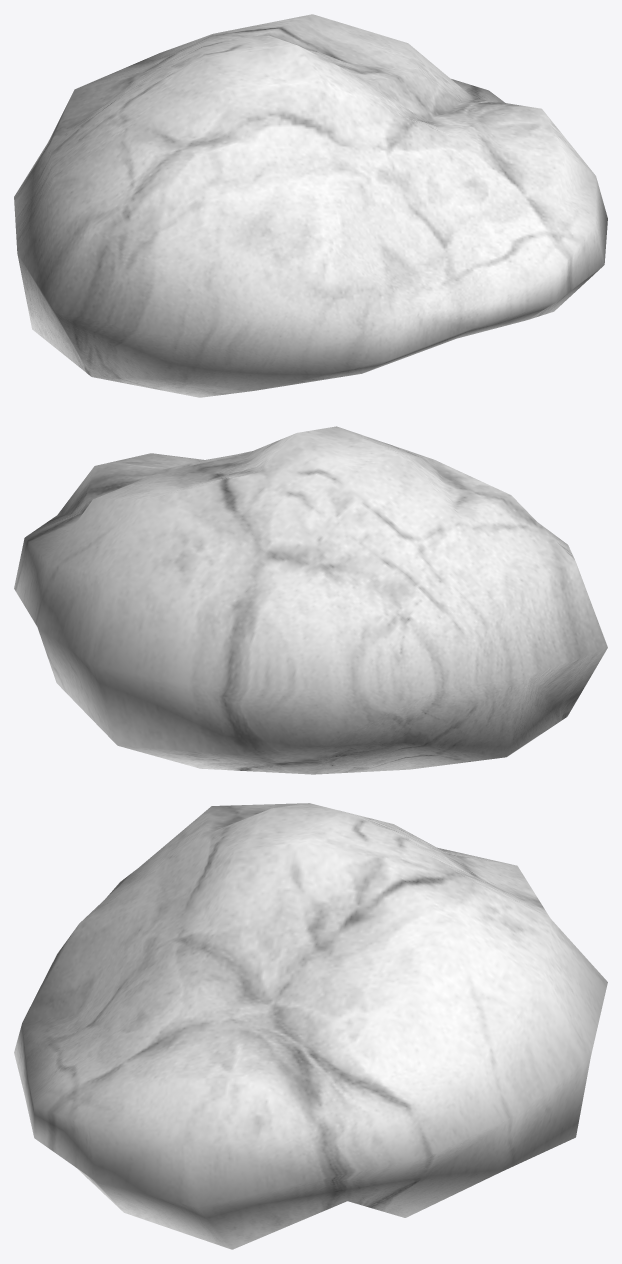
File: Rock-12.fbx
3 renders of one model, top to bottom at view 1: azimuth 30°, elevation 25°; view 2: azimuth 150°, elevation 25°; view 3: azimuth 270°, elevation 25°, orthographic. The views are drawn at different scales.
Parts seen in each view (by area): view 1: Cube.007; view 2: Cube.007; view 3: Cube.007.
Boxes of the visible parts, <box> form: Cube.007: <box>14,14,607,397</box>; Cube.007: <box>14,426,607,774</box>; Cube.007: <box>14,803,607,1249</box>.
Size of the model in its own units: 132 by 69.18 by 113.
